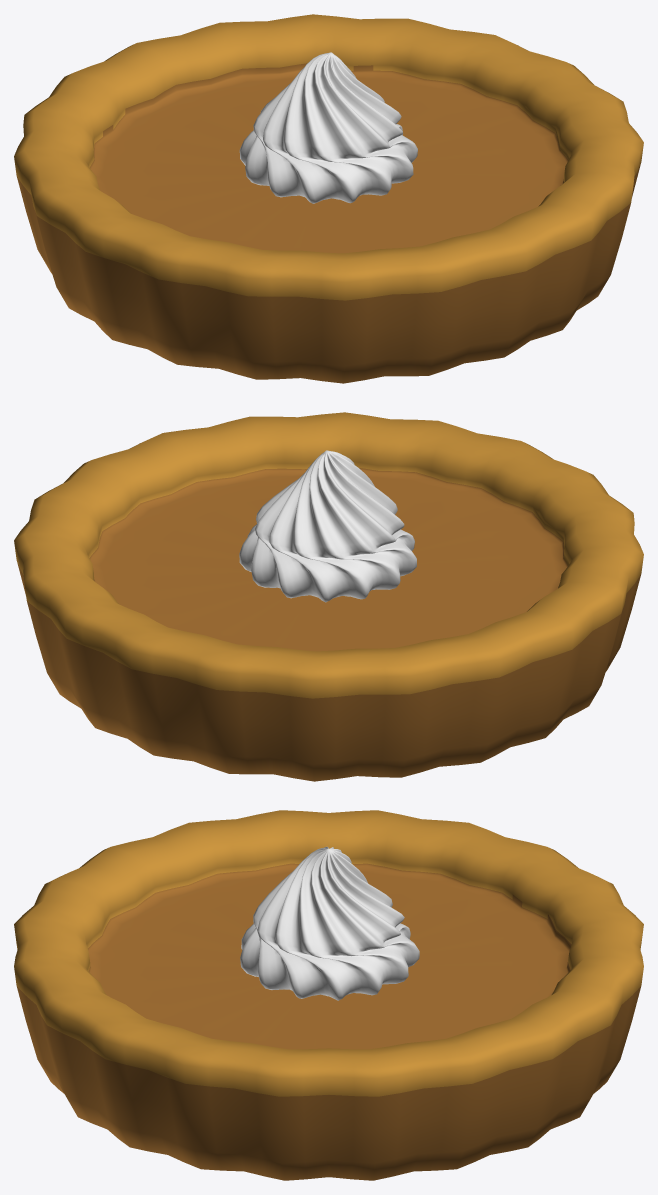
File: Pie01.fbx
The picture shows the model from 3 angles, top to bottom: view 1: azimuth 30°, elevation 25°; view 2: azimuth 150°, elevation 25°; view 3: azimuth 270°, elevation 25°; orthographic projection.
Parts seen in each view (by area): view 1: Pie01; view 2: Pie01; view 3: Pie01.
Boxes of the visible parts, <box> form: Pie01: <box>14,14,643,383</box>; Pie01: <box>14,412,643,781</box>; Pie01: <box>14,810,643,1180</box>.
Size of the model in its own units: 207 by 82.81 by 207.
